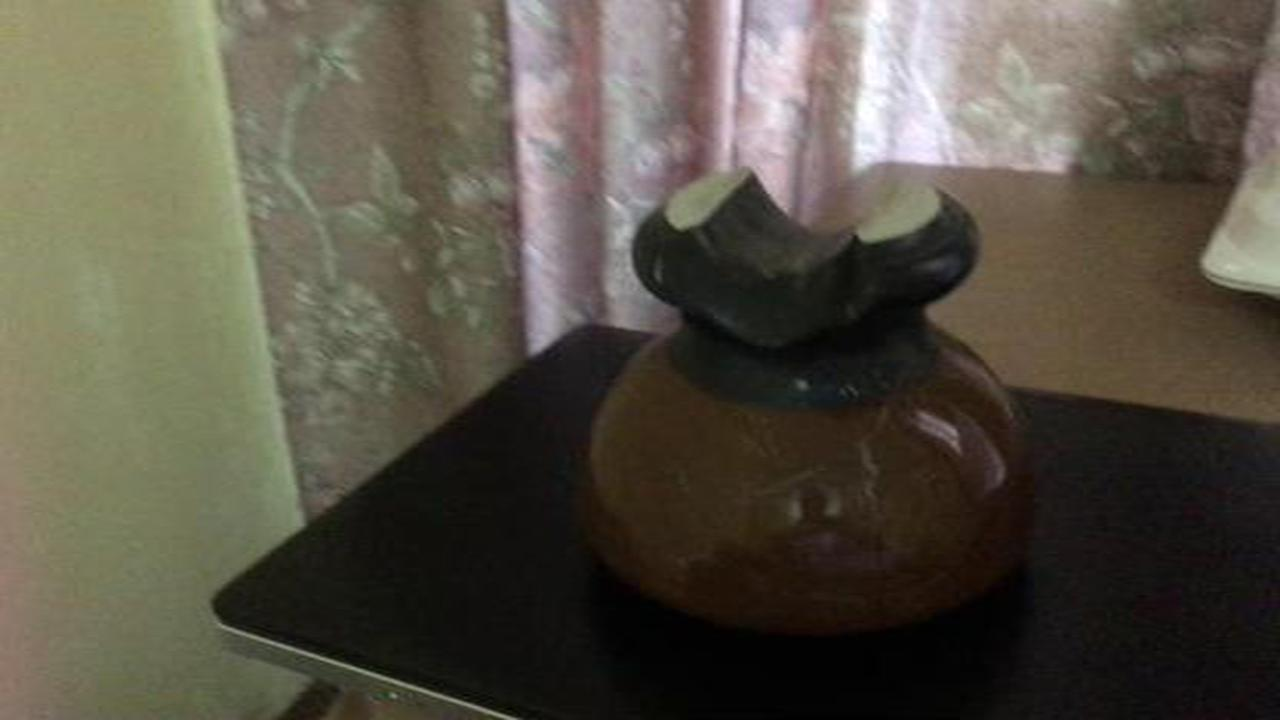insulator_pin: (567, 153, 1059, 648)
